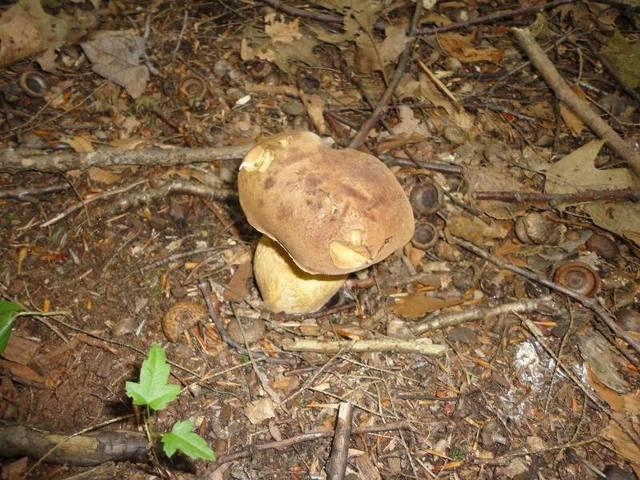Non-edible Mushroom: (235, 128, 415, 316)
